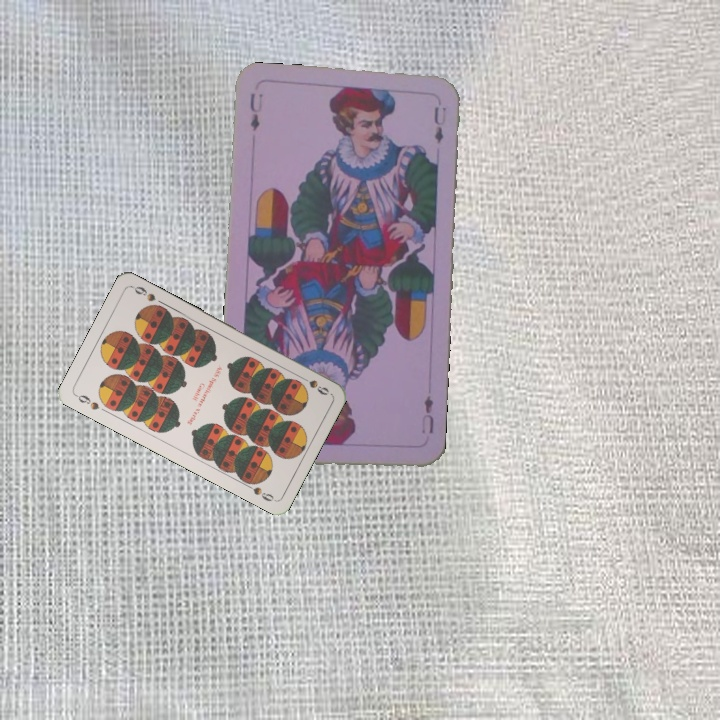EU: (245, 89, 266, 133), (417, 391, 436, 436)
S9: (295, 372, 332, 398), (71, 390, 102, 412)
